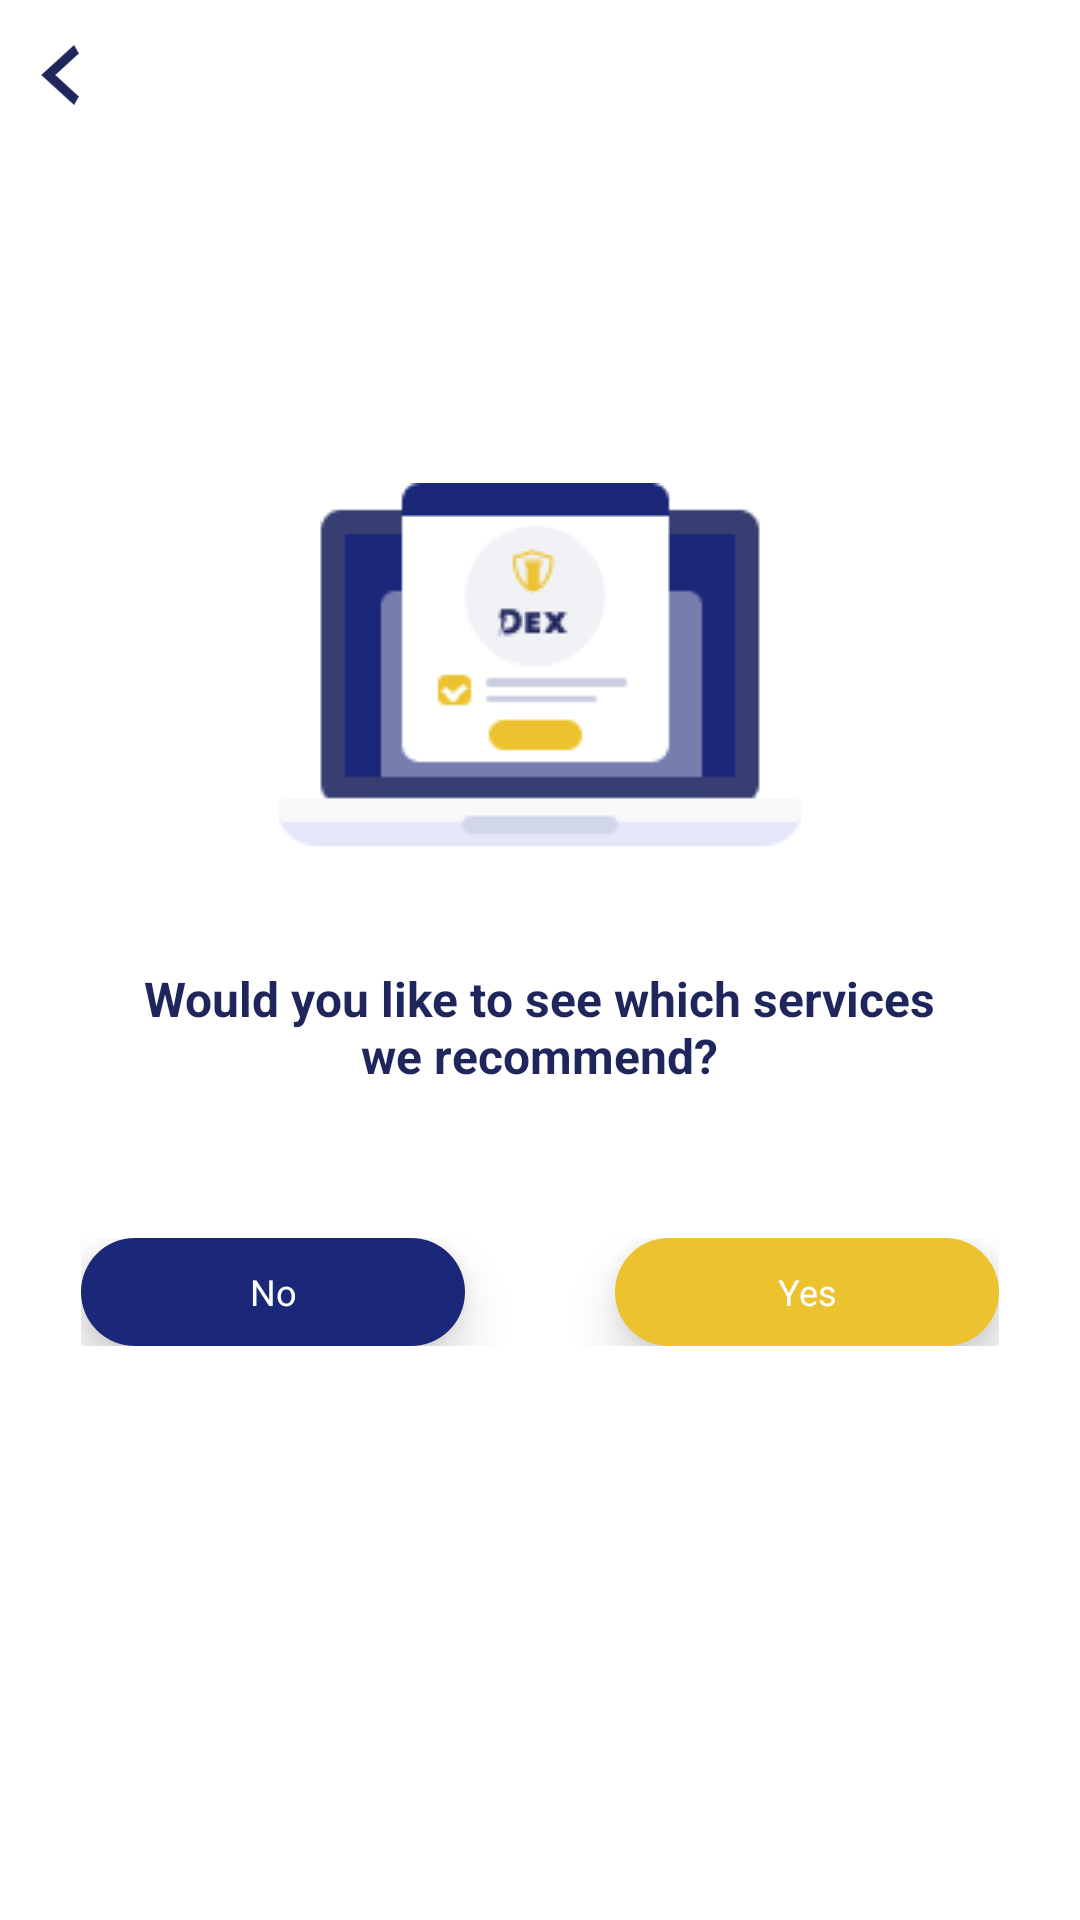

Screen size 1080×1920. Icon name, then its center in pixels as point (x, y):
back: point (60, 75)
